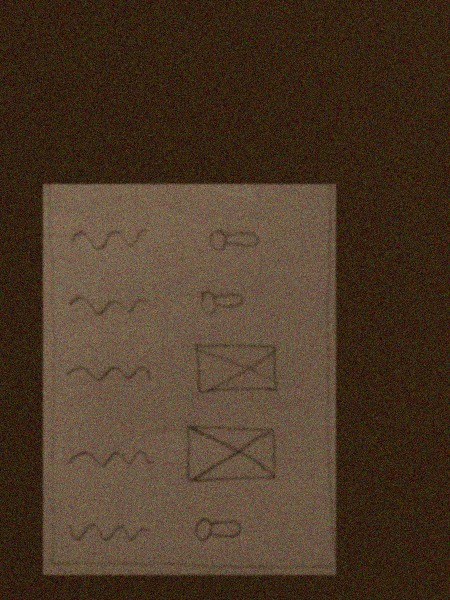image: (183, 421, 279, 484), (190, 337, 282, 399)
switch: (203, 222, 264, 260), (193, 282, 254, 319), (188, 508, 249, 545)
text: (64, 442, 157, 474), (61, 517, 153, 549), (64, 355, 153, 387), (65, 224, 149, 252), (65, 291, 149, 318)
